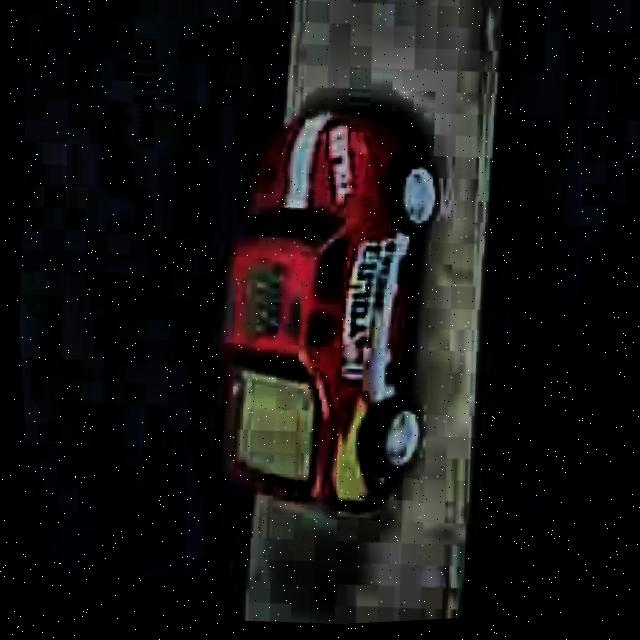car: (186, 89, 463, 529)
